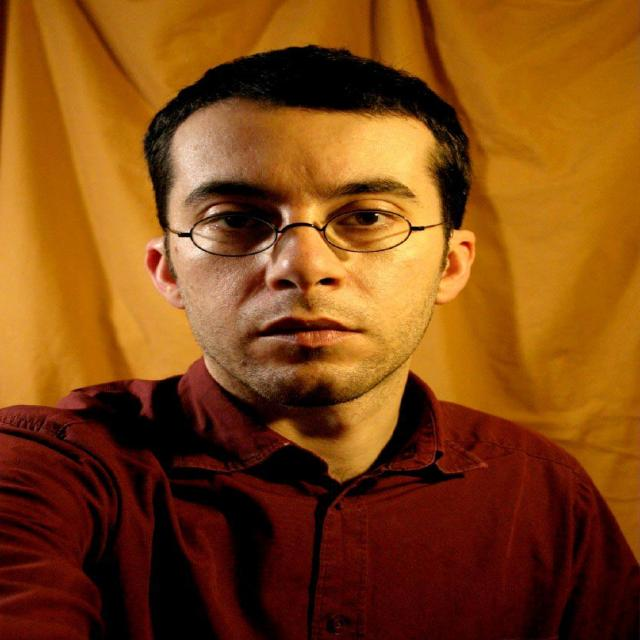no-glass: (197, 205, 406, 232)
